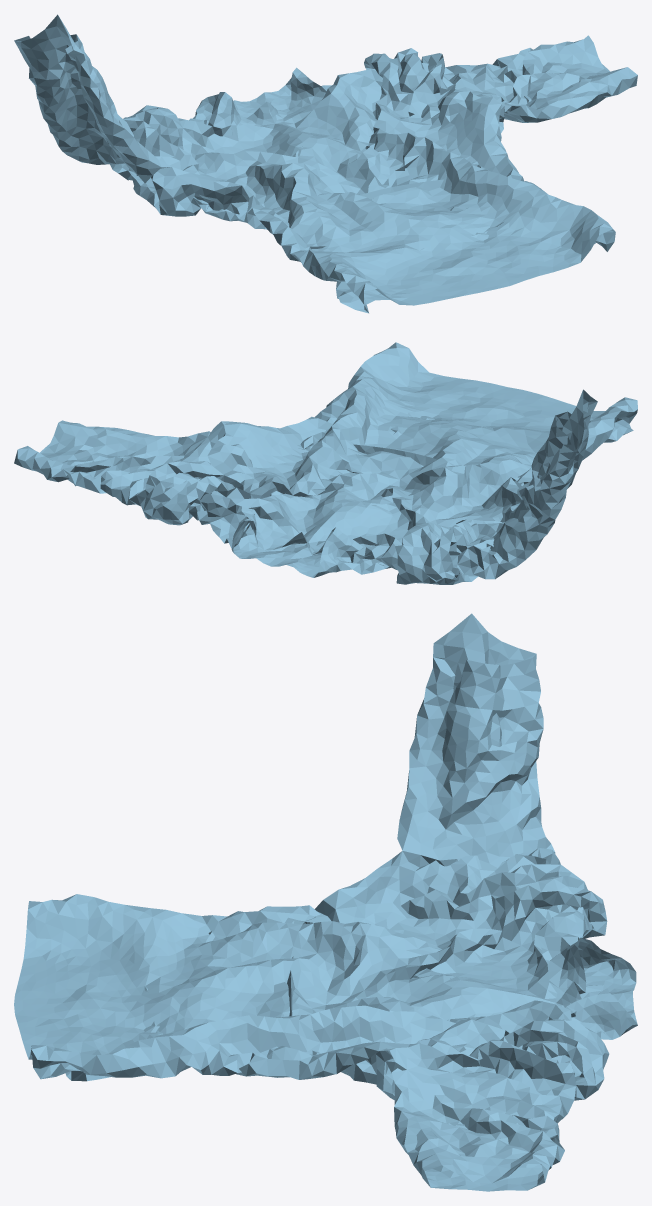
File: frame_05.glb
3 renders of one model, top to bottom at view 1: azimuth 30°, elevation 25°; view 2: azimuth 150°, elevation 25°; view 3: azimuth 270°, elevation 25°, orthographic. The views are drawn at different scales.
Parts seen in each view (by area): view 1: frame_05.obj; view 2: frame_05.obj; view 3: frame_05.obj.
Part boxes in pixels (x1,y1,x2,y2): frame_05.obj: (14,14,637,313); frame_05.obj: (14,342,637,584); frame_05.obj: (14,613,637,1191).
Bounding box in the file's own units: 1.77 × 0.603 × 1.35.
